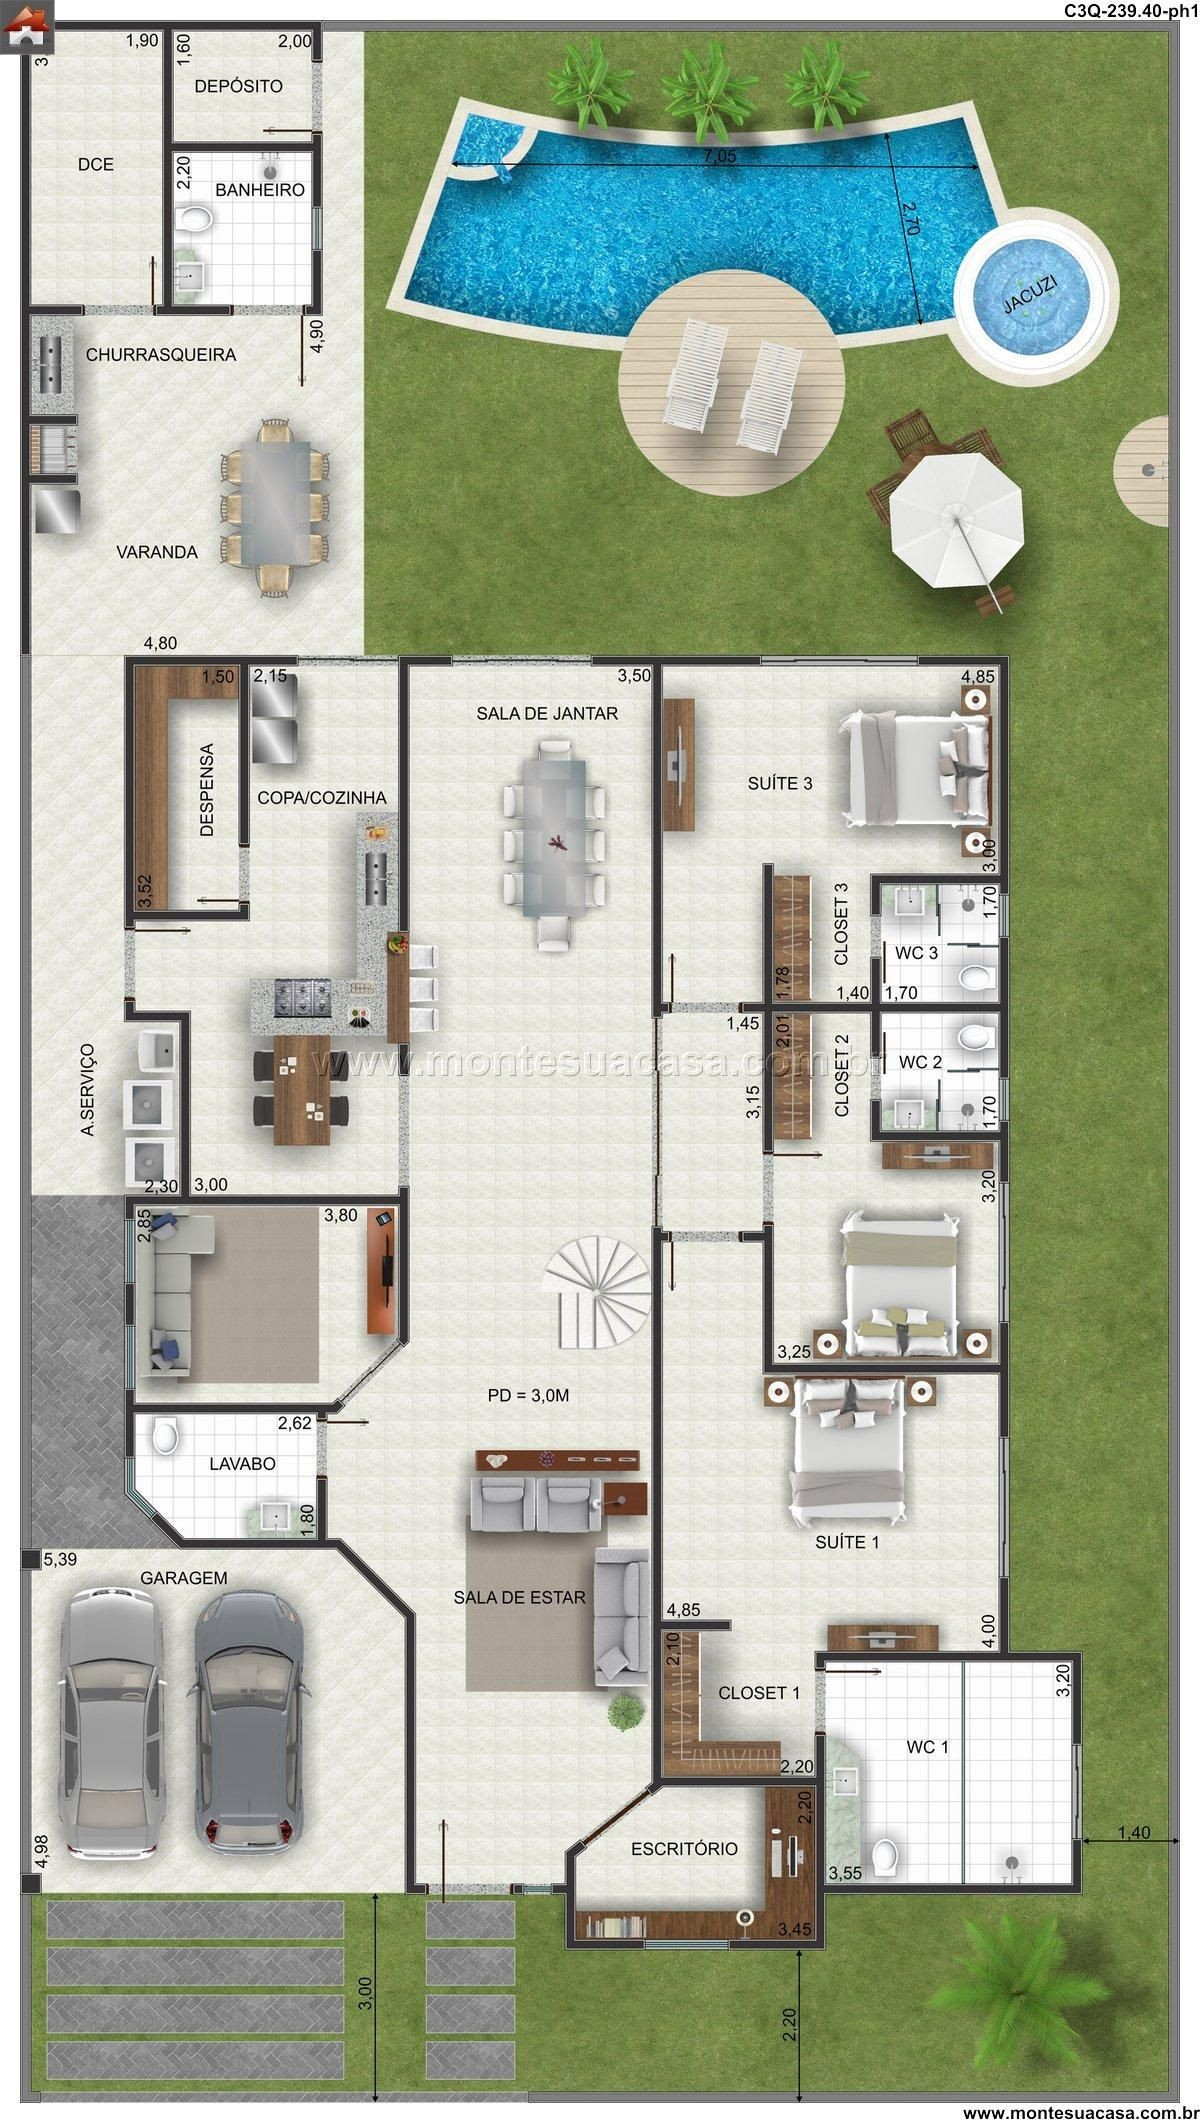room: (654, 1363, 1008, 1629), (652, 656, 1011, 886), (816, 1652, 1083, 1891), (127, 1196, 411, 1414), (762, 1130, 1011, 1374), (869, 1002, 1011, 1142), (869, 873, 1011, 1012)
